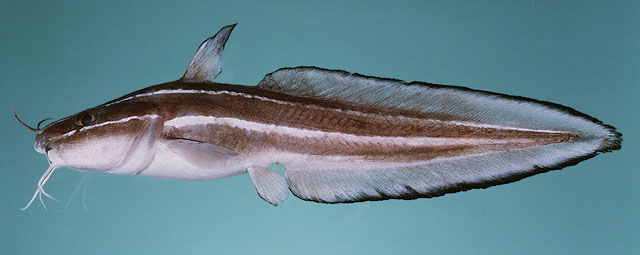fish: (34, 22, 625, 205)
